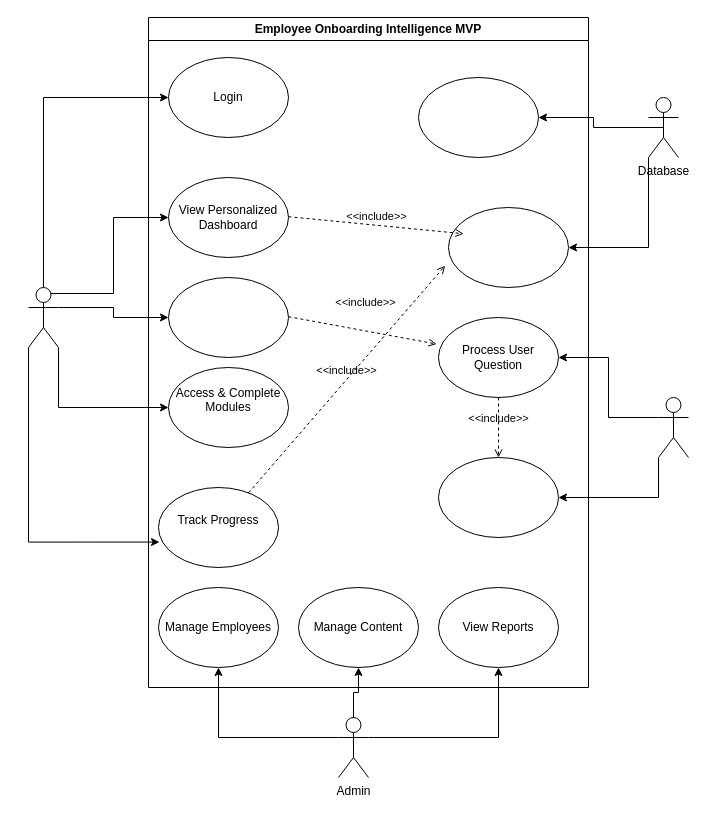
The diagram is 722 pixels wide and 816 high, and some of its shapes have lost their labels. Here are the shapes that lost their labels. From the top down, the centre of each, then its label:
At [478,117]: "Store Data".
At [508,247]: "Retrieve Data".
At [43,317]: "Employee".
At [228,317]: "Ask AI Assistant".
At [673,427]: "AI Assistant".
At [498,497]: "Generate Answer".
